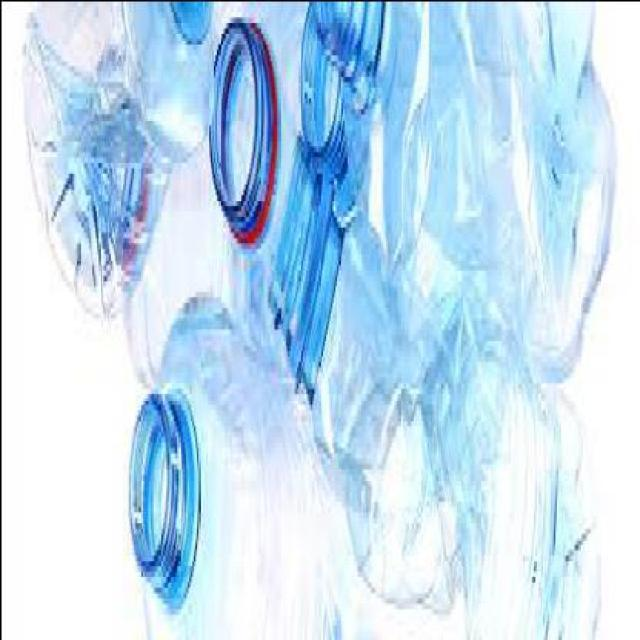PLASTIC: (266, 144, 600, 638), (297, 5, 615, 387), (126, 307, 349, 639), (21, 5, 170, 318), (311, 5, 591, 129), (208, 6, 302, 360), (20, 5, 212, 162)
